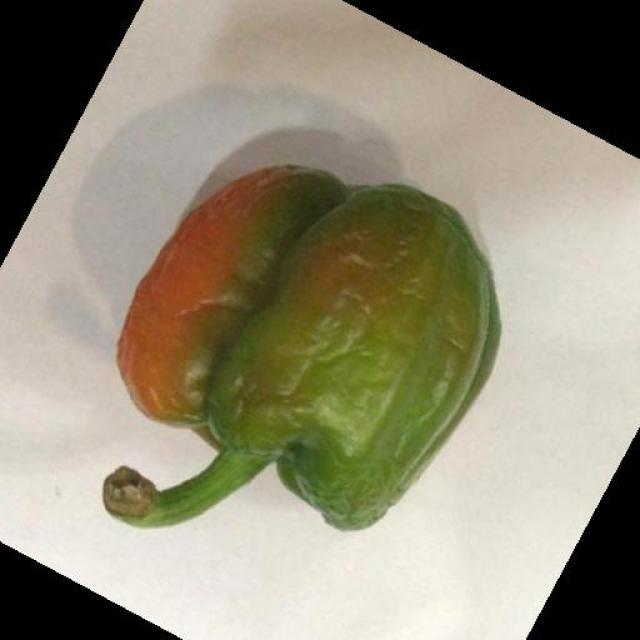Stale_Capsicum: (111, 145, 522, 534)
